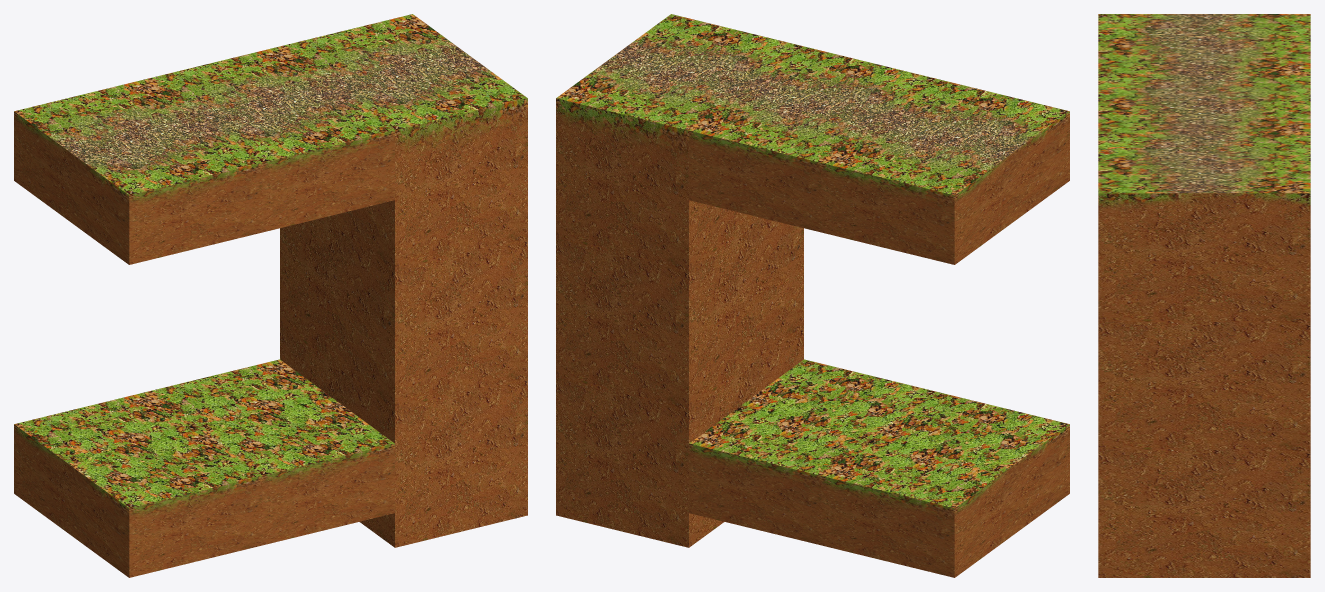
File: Stair-6.fbx
3 views of the same model, side by side, from view 1: azimuth 30°, elevation 25°; view 2: azimuth 150°, elevation 25°; view 3: azimuth 270°, elevation 25° (orthographic). The views are drawn at different scales.
Visible parts, largest first — view 1: Unit_Block13, Unit_Block6, Unit_Block4, Unit_Block17, Unit_Block1, Unit_Block16, Unit_Block3; view 2: Unit_Block13, Unit_Block6, Unit_Block4, Unit_Block17, Unit_Block1, Unit_Block16, Unit_Block3; view 3: Unit_Block13, Unit_Block3, Unit_Block6, Unit_Block1, Unit_Block4.
Boxes of the visible parts, <box> form: Unit_Block13: <box>280,14,527,269</box>; Unit_Block6: <box>280,217,527,408</box>; Unit_Block4: <box>14,79,261,264</box>; Unit_Block17: <box>14,392,261,577</box>; Unit_Block1: <box>147,46,394,232</box>; Unit_Block16: <box>147,359,394,545</box>; Unit_Block3: <box>280,325,527,547</box>; Unit_Block13: <box>556,14,803,269</box>; Unit_Block6: <box>556,217,803,408</box>; Unit_Block4: <box>822,79,1069,264</box>; Unit_Block17: <box>822,392,1069,577</box>; Unit_Block1: <box>689,46,936,232</box>; Unit_Block16: <box>689,359,936,545</box>; Unit_Block3: <box>556,325,803,547</box>; Unit_Block13: <box>1098,133,1310,321</box>; Unit_Block3: <box>1098,449,1310,577</box>; Unit_Block6: <box>1098,321,1310,449</box>; Unit_Block1: <box>1098,73,1310,133</box>; Unit_Block4: <box>1098,14,1310,73</box>.
Bounding box in the file's own units: 6 × 6 × 3.
